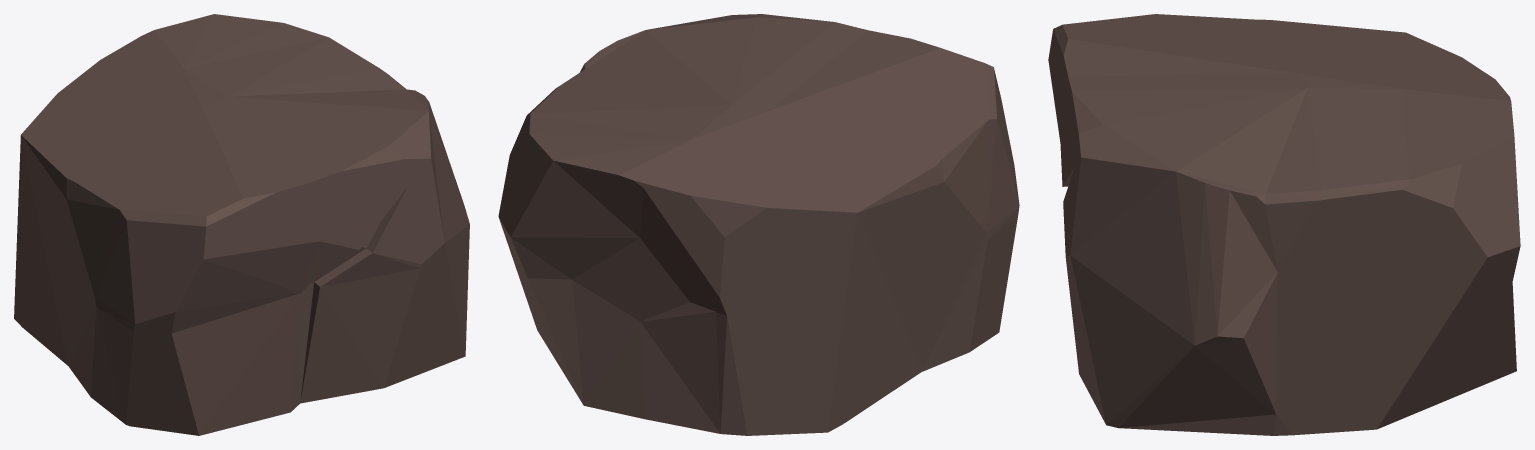
The model's file is Rock 5.fbx.
3 renders of one model, left to right at view 1: azimuth 30°, elevation 25°; view 2: azimuth 150°, elevation 25°; view 3: azimuth 270°, elevation 25°, orthographic. The views are drawn at different scales.
Visible parts, largest first — view 1: Cliff shard 5; view 2: Cliff shard 5; view 3: Cliff shard 5.
Boxes of the visible parts, <box> form: Cliff shard 5: <box>14,14,469,435</box>; Cliff shard 5: <box>498,14,1019,435</box>; Cliff shard 5: <box>1048,14,1520,435</box>.
Size of the model in its own units: 0.7831 by 0.4495 by 0.7463.
